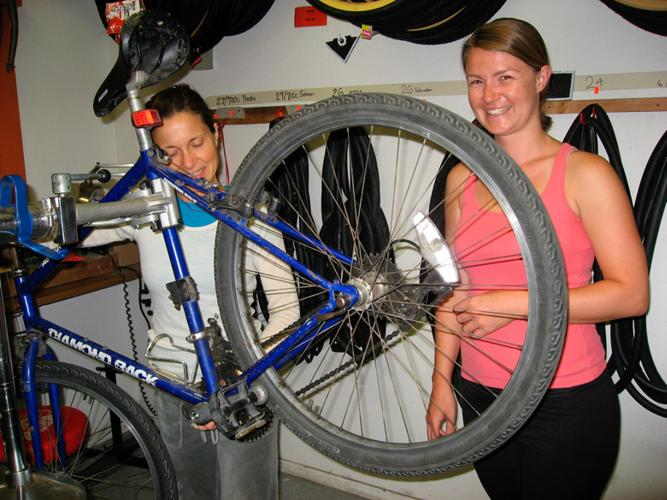person: (39, 85, 297, 500)
